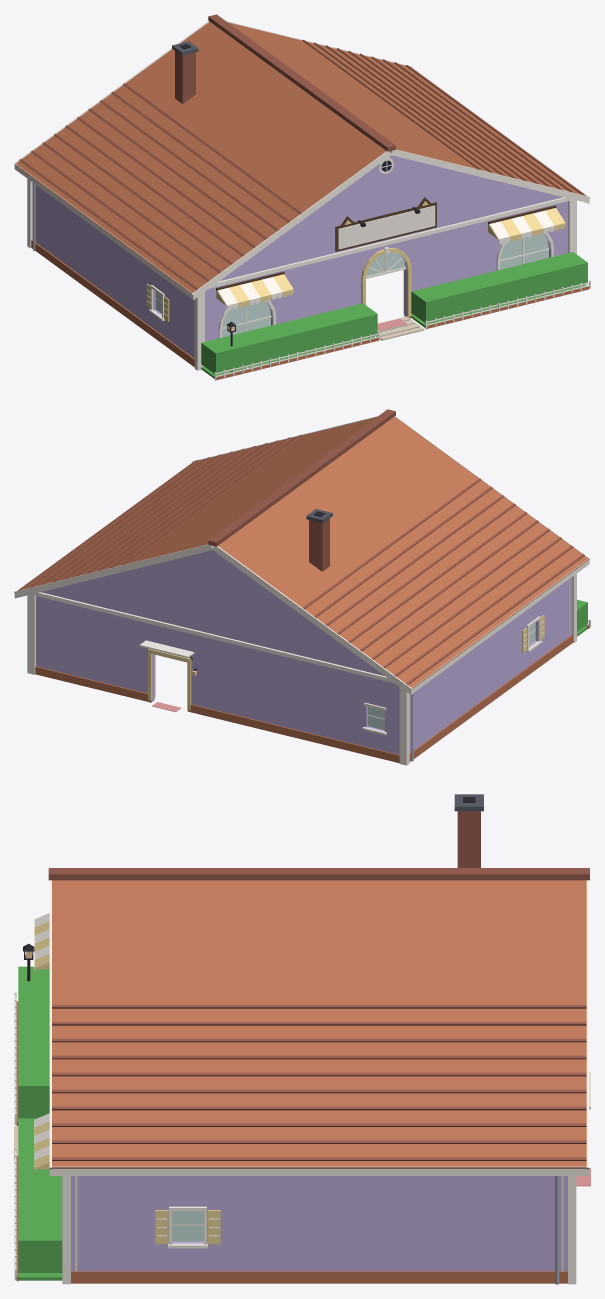
The model's file is CatCafe_Plot_Cafe_Lilac_60x46.glb.
3 views of the same model, one above another, from view 1: azimuth 30°, elevation 25°; view 2: azimuth 150°, elevation 25°; view 3: azimuth 270°, elevation 25° (orthographic). The views are drawn at different scales.
Parts seen in each view (by area): view 1: CatCafe_Plot_Cafe_Lilac_60x46_Roof, CatCafe_Plot_Cafe_Lilac_60x46_Paint, CatCafe_Plot_Cafe_Lilac_60x46_Fireflies, CatCafe_Plot_Cafe_Lilac_60x46_Trim, CatCafe_Plot_Cafe_Lilac_60x46_Roof_Trim, CatCafe_Plot_Cafe_Lilac_60x46_Awning, CatCafe_Plot_Cafe_Lilac_60x46, CatCafe_Plot_Cafe_Lilac_60x46_Glass, CatCafe_Plot_Cafe_Lilac_60x46_Garden, CatCafe_Plot_Cafe_Lilac_60x46_SignBoard, CatCafe_Plot_Cafe_Lilac_60x46_Flowers, CatCafe_Plot_Cafe_Lilac_60x46_Path; view 2: CatCafe_Plot_Cafe_Lilac_60x46_Roof, CatCafe_Plot_Cafe_Lilac_60x46_Paint, CatCafe_Plot_Cafe_Lilac_60x46_Trim, CatCafe_Plot_Cafe_Lilac_60x46_Roof_Trim, CatCafe_Plot_Cafe_Lilac_60x46; view 3: CatCafe_Plot_Cafe_Lilac_60x46_Roof, CatCafe_Plot_Cafe_Lilac_60x46_Paint, CatCafe_Plot_Cafe_Lilac_60x46_Fireflies, CatCafe_Plot_Cafe_Lilac_60x46, CatCafe_Plot_Cafe_Lilac_60x46_Roof_Trim, CatCafe_Plot_Cafe_Lilac_60x46_Trim, CatCafe_Plot_Cafe_Lilac_60x46_Awning, CatCafe_Plot_Cafe_Lilac_60x46_Garden, CatCafe_Plot_Cafe_Lilac_60x46_Glass.
Boxes of the visible parts, box(x1,y1,x2,y2) form: CatCafe_Plot_Cafe_Lilac_60x46_Roof: box(15, 14, 586, 293); CatCafe_Plot_Cafe_Lilac_60x46_Paint: box(32, 155, 568, 358); CatCafe_Plot_Cafe_Lilac_60x46_Fireflies: box(201, 252, 587, 374); CatCafe_Plot_Cafe_Lilac_60x46_Trim: box(27, 157, 576, 370); CatCafe_Plot_Cafe_Lilac_60x46_Roof_Trim: box(14, 21, 590, 299); CatCafe_Plot_Cafe_Lilac_60x46_Awning: box(216, 208, 565, 310); CatCafe_Plot_Cafe_Lilac_60x46: box(31, 160, 549, 366); CatCafe_Plot_Cafe_Lilac_60x46_Glass: box(155, 233, 548, 337); CatCafe_Plot_Cafe_Lilac_60x46_Garden: box(214, 280, 590, 380); CatCafe_Plot_Cafe_Lilac_60x46_SignBoard: box(338, 205, 435, 249); CatCafe_Plot_Cafe_Lilac_60x46_Flowers: box(201, 285, 585, 378); CatCafe_Plot_Cafe_Lilac_60x46_Path: box(376, 316, 424, 340); CatCafe_Plot_Cafe_Lilac_60x46_Roof: box(17, 409, 588, 688); CatCafe_Plot_Cafe_Lilac_60x46_Paint: box(36, 550, 571, 754); CatCafe_Plot_Cafe_Lilac_60x46_Trim: box(27, 573, 576, 765); CatCafe_Plot_Cafe_Lilac_60x46_Roof_Trim: box(14, 416, 589, 694); CatCafe_Plot_Cafe_Lilac_60x46: box(35, 615, 572, 763); CatCafe_Plot_Cafe_Lilac_60x46_Roof: box(48, 794, 589, 1168); CatCafe_Plot_Cafe_Lilac_60x46_Paint: box(71, 1176, 567, 1271); CatCafe_Plot_Cafe_Lilac_60x46_Fireflies: box(18, 966, 62, 1272); CatCafe_Plot_Cafe_Lilac_60x46: box(71, 1168, 590, 1284); CatCafe_Plot_Cafe_Lilac_60x46_Roof_Trim: box(49, 880, 588, 1175); CatCafe_Plot_Cafe_Lilac_60x46_Trim: box(62, 1071, 590, 1284); CatCafe_Plot_Cafe_Lilac_60x46_Awning: box(34, 913, 49, 1174); CatCafe_Plot_Cafe_Lilac_60x46_Garden: box(14, 943, 34, 1281); CatCafe_Plot_Cafe_Lilac_60x46_Glass: box(172, 1211, 203, 1241).
Size of the model in its own units: 65.86 by 31 by 54.8.
1 material, 1 textured.
